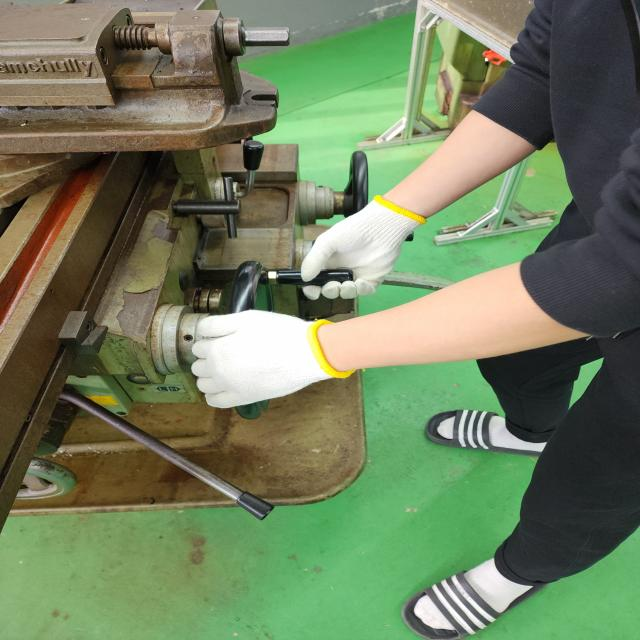Boots: (157, 300, 342, 412), (294, 195, 431, 309)
